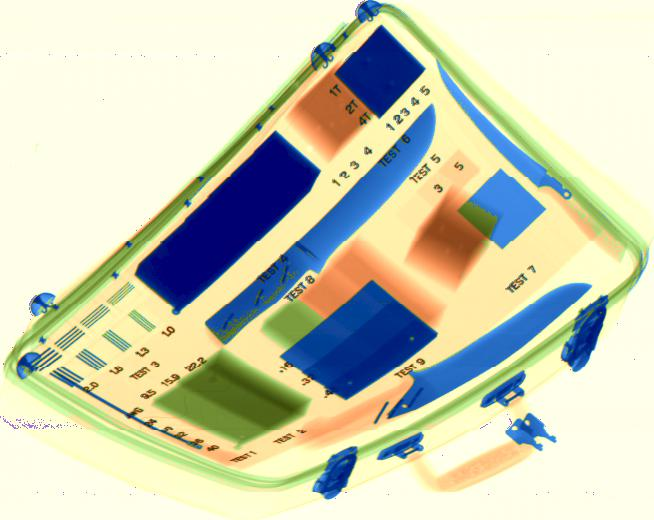Knife: (205, 104, 438, 348), (434, 60, 627, 260), (371, 281, 597, 427)
